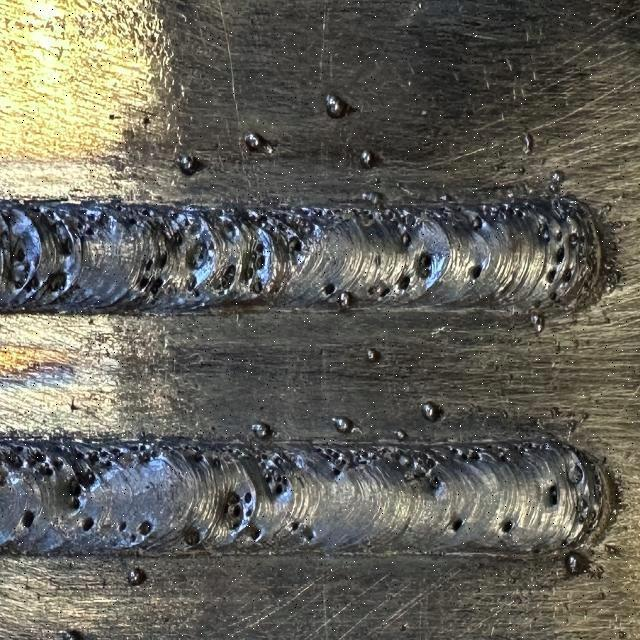Porosity: (48, 213, 78, 256), (395, 450, 435, 482), (11, 253, 41, 289), (261, 460, 289, 495), (349, 207, 408, 222), (185, 238, 209, 270), (225, 492, 244, 529), (350, 447, 381, 466), (590, 462, 604, 500), (44, 270, 68, 292), (300, 207, 346, 217), (21, 273, 42, 294), (1, 448, 22, 468), (34, 207, 51, 231), (266, 218, 286, 238), (368, 280, 390, 298), (501, 202, 525, 218), (221, 265, 236, 289), (485, 445, 506, 462), (419, 252, 432, 278), (568, 463, 584, 484), (184, 527, 201, 546), (70, 483, 81, 510), (255, 240, 265, 269), (29, 450, 46, 466), (140, 448, 158, 463), (150, 277, 164, 296), (14, 240, 26, 262), (21, 510, 35, 528), (539, 220, 550, 242), (250, 275, 262, 295), (301, 525, 315, 542), (429, 473, 441, 492), (242, 263, 255, 280), (255, 210, 268, 227), (511, 442, 528, 455), (225, 217, 236, 237), (39, 463, 54, 477), (500, 518, 514, 533), (185, 273, 196, 292), (191, 443, 202, 462), (139, 520, 152, 536), (524, 442, 550, 450), (249, 525, 261, 542), (549, 485, 559, 505), (159, 250, 169, 269), (136, 277, 150, 290), (50, 457, 64, 470), (108, 445, 122, 458), (451, 518, 464, 532), (398, 275, 410, 290), (471, 263, 482, 279), (325, 448, 341, 459), (72, 447, 85, 460), (82, 517, 94, 531), (469, 448, 481, 462), (418, 452, 430, 466), (88, 450, 99, 465), (555, 247, 565, 263), (85, 208, 98, 220), (472, 215, 482, 230), (546, 268, 556, 283), (324, 282, 335, 295), (84, 222, 95, 235), (401, 232, 411, 246), (292, 240, 303, 252), (141, 207, 154, 217), (336, 455, 346, 468), (111, 203, 125, 212), (99, 460, 111, 470), (290, 520, 300, 532), (579, 498, 589, 510), (562, 268, 571, 281), (245, 505, 254, 518), (176, 442, 189, 451), (554, 228, 562, 242), (126, 213, 136, 224), (449, 445, 460, 455), (472, 447, 482, 458), (138, 442, 148, 453), (426, 457, 436, 468), (174, 232, 182, 245), (11, 445, 24, 453), (214, 280, 224, 290), (98, 448, 108, 458), (588, 510, 598, 520), (211, 457, 221, 467), (569, 233, 578, 244), (332, 467, 341, 478), (76, 218, 85, 229), (145, 258, 152, 271), (459, 450, 468, 460), (131, 443, 141, 452), (314, 445, 324, 454), (244, 492, 252, 503), (524, 202, 535, 210), (181, 217, 189, 227), (130, 533, 138, 542), (225, 447, 234, 455), (260, 453, 268, 462), (170, 209, 178, 218), (119, 522, 126, 532), (549, 292, 556, 301), (579, 515, 586, 524), (162, 447, 172, 452), (588, 522, 596, 528), (195, 290, 200, 298), (586, 530, 591, 535)
Spatters: (565, 552, 604, 579), (326, 93, 349, 118), (256, 134, 278, 152), (251, 422, 274, 438), (362, 192, 388, 206), (176, 155, 195, 174), (244, 132, 262, 152), (338, 290, 355, 310), (128, 567, 148, 584), (332, 417, 354, 432), (60, 628, 86, 640), (530, 312, 545, 332), (81, 468, 96, 487), (550, 170, 565, 188), (360, 148, 374, 167), (421, 402, 435, 419), (566, 418, 579, 436), (566, 553, 578, 572), (524, 132, 534, 152), (368, 348, 381, 362), (395, 428, 408, 440), (605, 544, 620, 554), (550, 407, 561, 418), (141, 115, 151, 126), (601, 202, 611, 212), (618, 631, 629, 639), (599, 592, 606, 600), (395, 182, 403, 189), (519, 165, 525, 173), (582, 413, 590, 419), (109, 113, 115, 120), (375, 177, 380, 183)
